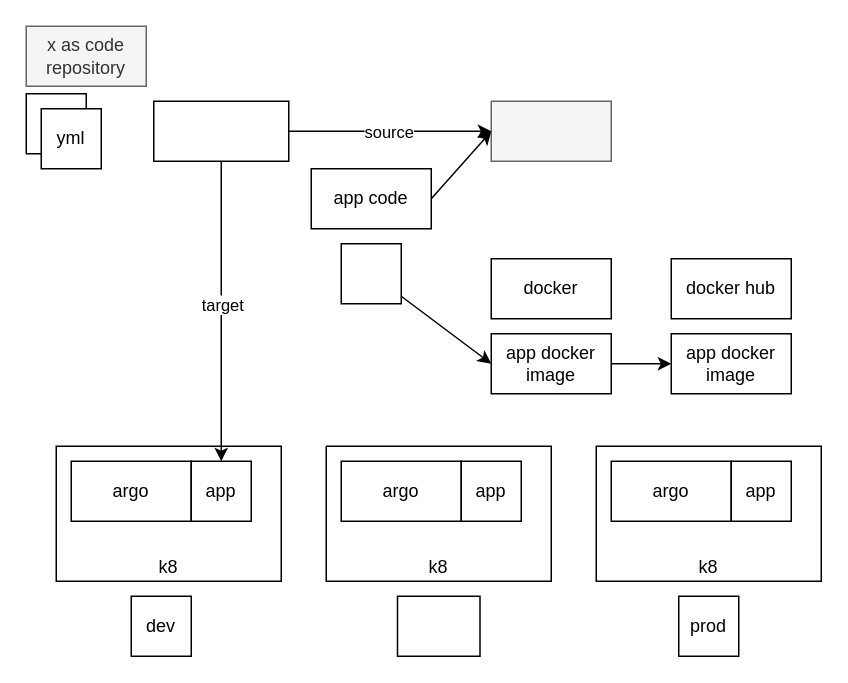
Image size: 848x683. Some labels were removed from this diagram. The box of each missing label's shape, as (x1, y1, x2, y2) in pixels:
app code repository: (490, 100, 611, 161)
application.yml: (152, 100, 289, 161)
jar: (340, 242, 401, 304)
staging: (396, 595, 480, 656)
